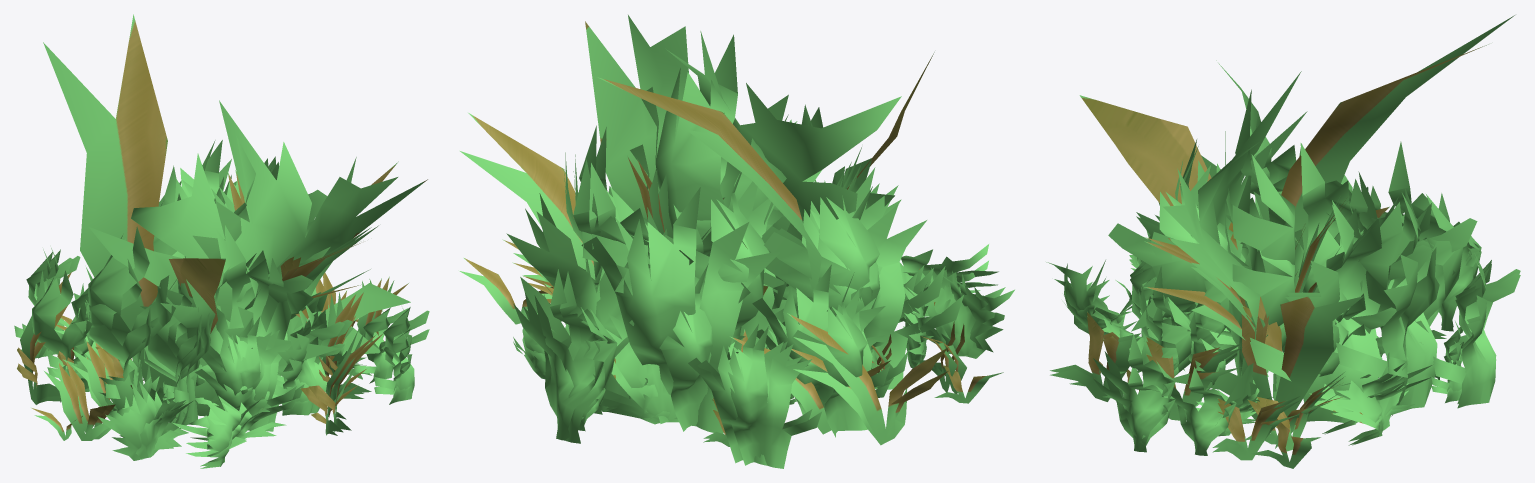
Rendered from grass groupings unity.fbx.
3 views of the same model, side by side, from view 1: azimuth 30°, elevation 25°; view 2: azimuth 150°, elevation 25°; view 3: azimuth 270°, elevation 25° (orthographic). The views are drawn at different scales.
Parts seen in each view (by area): view 1: Grass XL, Grass L, Grass M, Grass S, Grass XS; view 2: Grass XL, Grass L, Grass M, Grass S, Grass XS; view 3: Grass XL, Grass L, Grass M, Grass S, Grass XS.
Boxes of the visible parts, box(x1,y1,x2,y2) form: Grass XL: box(22, 14, 427, 458); Grass L: box(14, 136, 381, 460); Grass M: box(17, 251, 429, 466); Grass S: box(17, 269, 429, 468); Grass XS: box(31, 280, 408, 440); Grass XL: box(460, 15, 1005, 465); Grass L: box(506, 34, 1014, 468); Grass M: box(513, 162, 998, 446); Grass S: box(512, 229, 997, 446); Grass XS: box(459, 232, 1003, 434); Grass XL: box(1050, 15, 1520, 460); Grass L: box(1129, 89, 1520, 451); Grass M: box(1046, 163, 1471, 450); Grass S: box(1054, 242, 1463, 452); Grass XS: box(1102, 251, 1382, 468).
Size of the model in its own units: 138 by 98.01 by 123.
